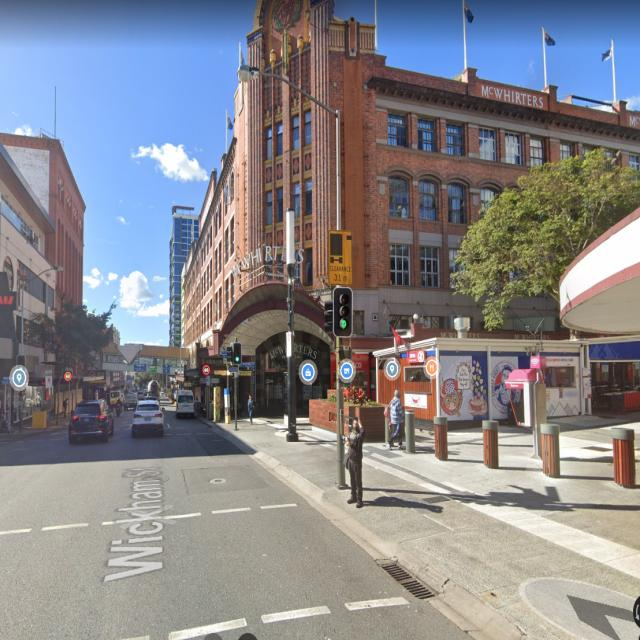light pole: (236, 65, 345, 489), (21, 266, 64, 432)
steel-pole: (336, 108, 346, 488), (18, 266, 22, 434), (235, 338, 237, 430)
streetlight: (237, 64, 339, 118), (20, 265, 65, 290)
traffic pole: (330, 277, 354, 488)
traffic-light: (332, 286, 354, 338), (233, 343, 241, 365)
